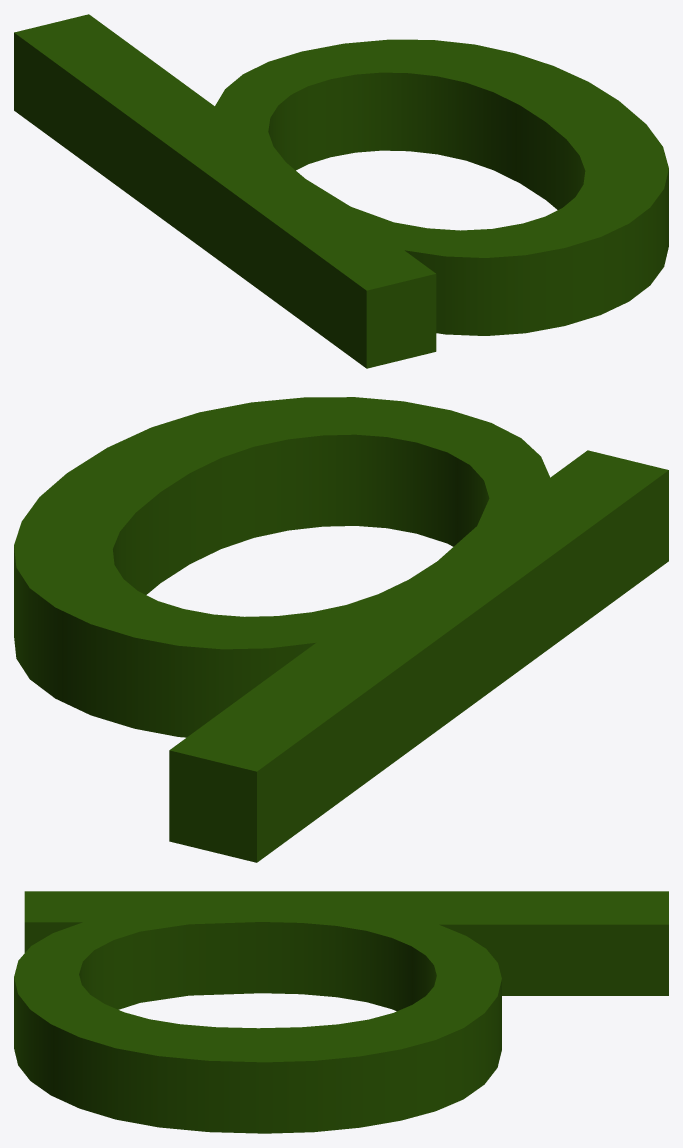
File: original-10.obj
The picture shows the model from 3 angles, top to bottom: view 1: azimuth 30°, elevation 25°; view 2: azimuth 150°, elevation 25°; view 3: azimuth 270°, elevation 25°; orthographic projection. The views are drawn at different scales.
Parts seen in each view (by area): view 1: mesh9/mesh9-geometry#mesh9-geometry; view 2: mesh9/mesh9-geometry#mesh9-geometry; view 3: mesh9/mesh9-geometry#mesh9-geometry.
Boxes of the visible parts, bbox=[...] form: mesh9/mesh9-geometry#mesh9-geometry: bbox=[14, 14, 668, 368]; mesh9/mesh9-geometry#mesh9-geometry: bbox=[14, 397, 668, 862]; mesh9/mesh9-geometry#mesh9-geometry: bbox=[14, 891, 668, 1133].
Bounding box in the file's own units: 0.0101 × 0.00195 × 0.0163.
